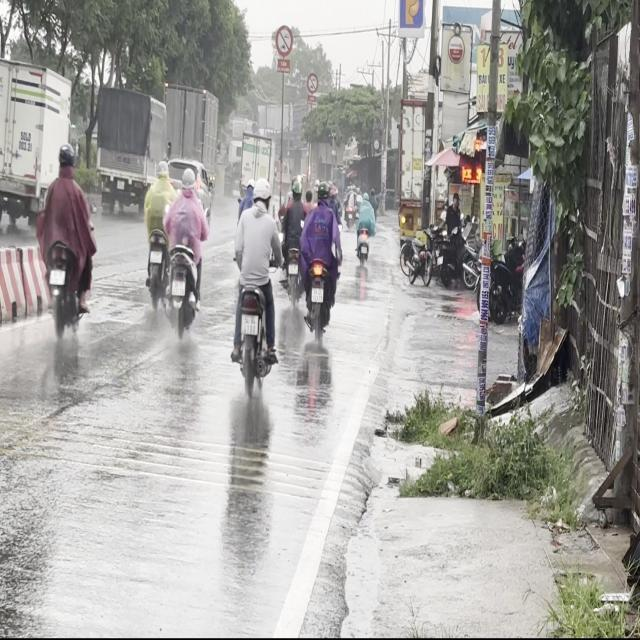helmet: (251, 177, 270, 209), (56, 142, 75, 174), (180, 166, 194, 193), (316, 180, 329, 203)
licenseplate: (36, 140, 95, 338), (228, 174, 280, 395), (164, 165, 206, 337), (299, 178, 341, 342)
nohelmet: (241, 313, 258, 334), (50, 268, 64, 284), (171, 280, 185, 295), (311, 288, 323, 302)
